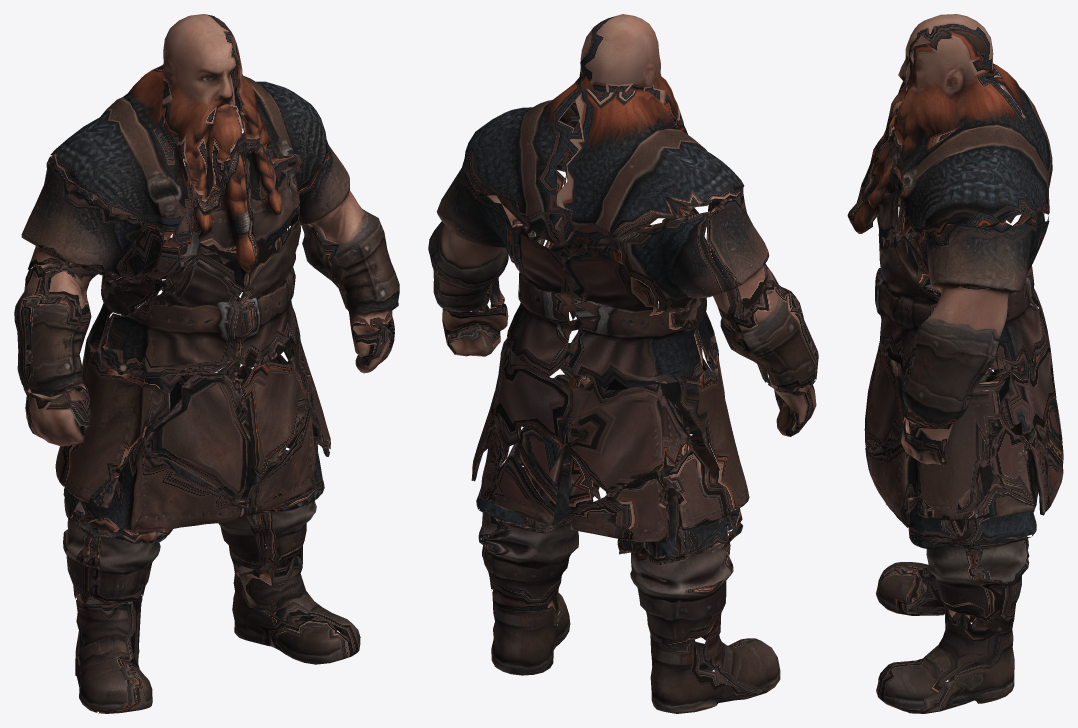
File: dwarf-male-smith-pixelated.glb
3 views of the same model, side by side, from view 1: azimuth 30°, elevation 25°; view 2: azimuth 150°, elevation 25°; view 3: azimuth 270°, elevation 25° (orthographic). The views are drawn at different scales.
Parts seen in each view (by area): view 1: geometry_0; view 2: geometry_0; view 3: geometry_0.
Boxes of the visible parts, x1=… form: geometry_0: x1=14, y1=14, x2=399, y2=713; geometry_0: x1=428, y1=14, x2=818, y2=713; geometry_0: x1=847, y1=14, x2=1063, y2=713.
Bounding box in the file's own units: 1.21 × 2 × 0.6178.
1 material, 1 textured.
